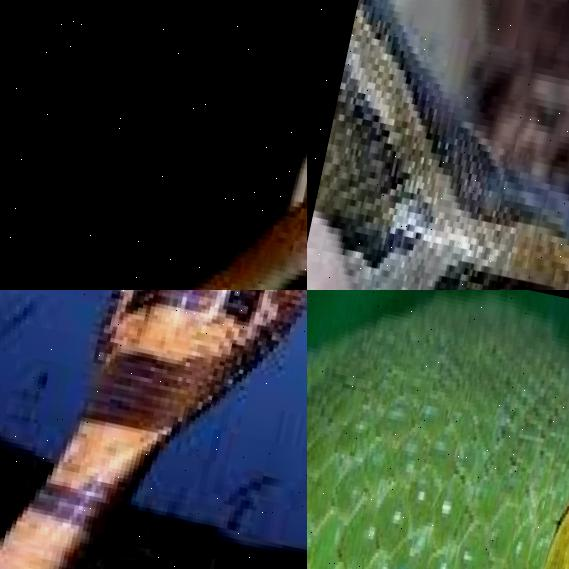snake: (0, 0, 307, 290), (0, 290, 307, 569), (307, 0, 569, 290), (307, 290, 569, 569)
